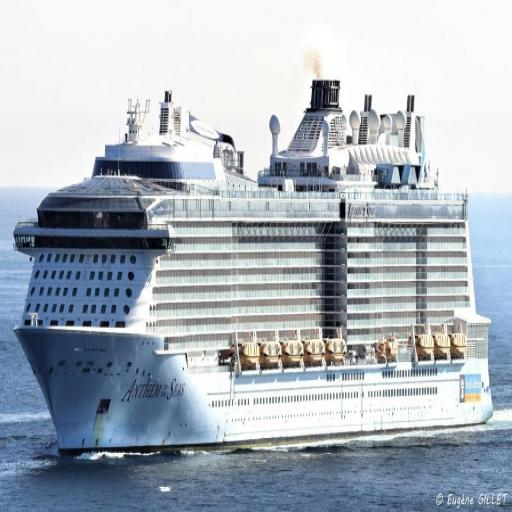cruises: (13, 72, 498, 469)
